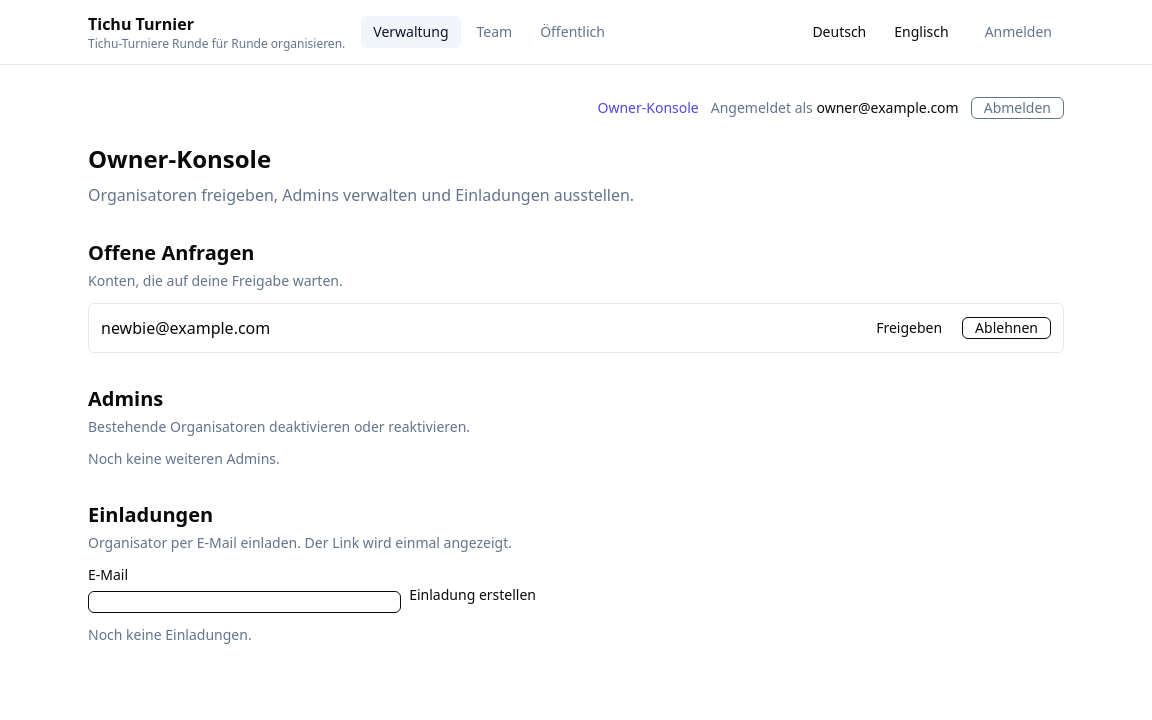
Test case: owner console › rejects a pending request
The image size is (1152, 720).
Click the button "Ablehnen".
click(1007, 328)  # box [962,317,1051,339]
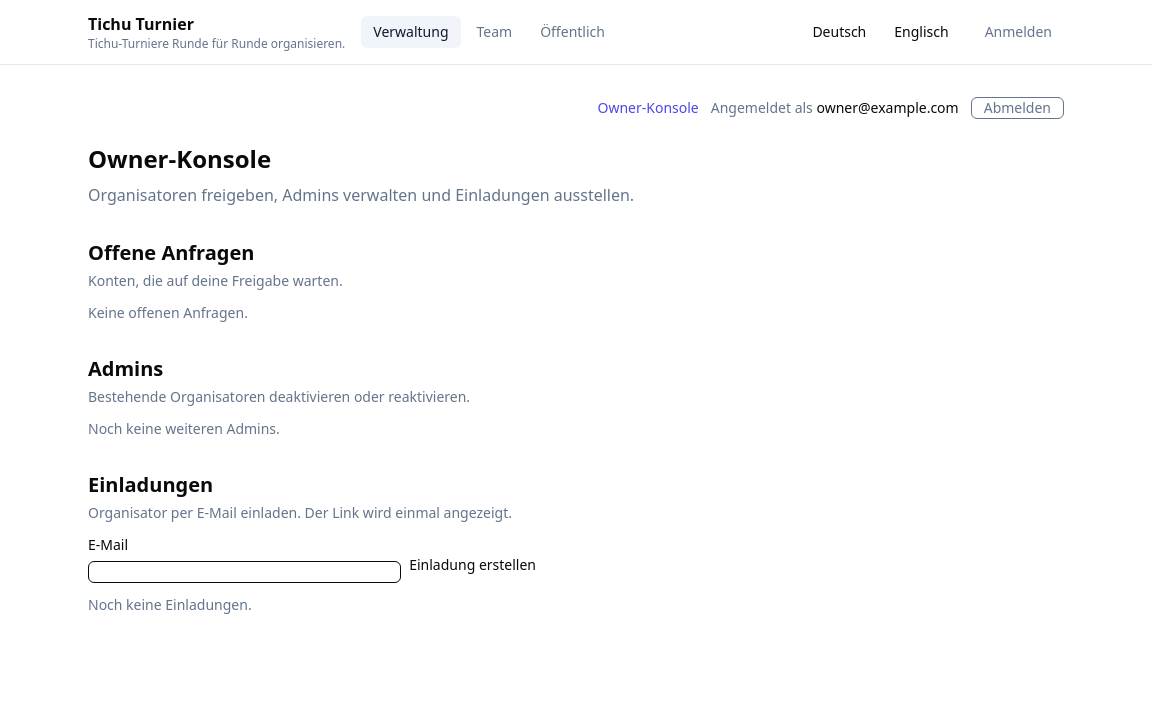
Expected: the text "Keine offenen Anfragen." is shown, [88,303,248,322]
